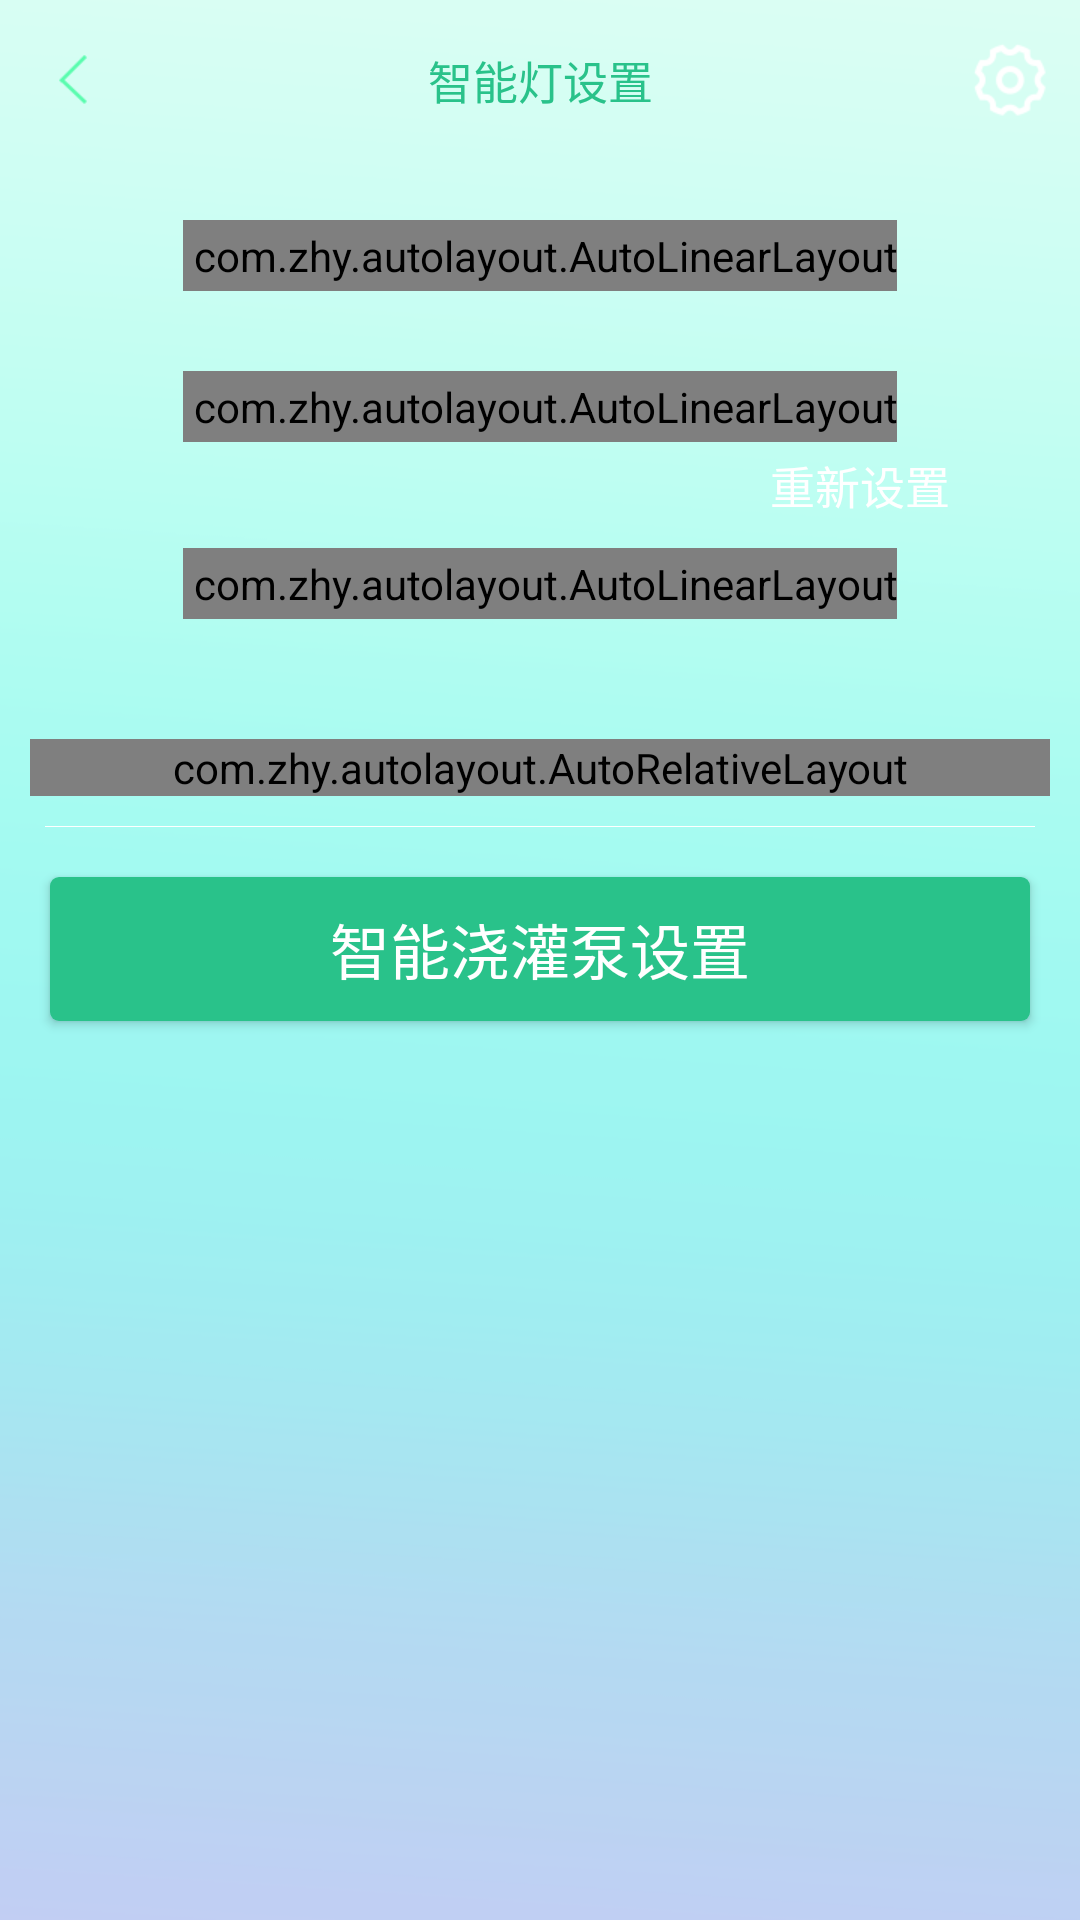

Named icons in this screenshot (1080 × 1920) and their centers, [x,y]:
stting: [1010,80]
